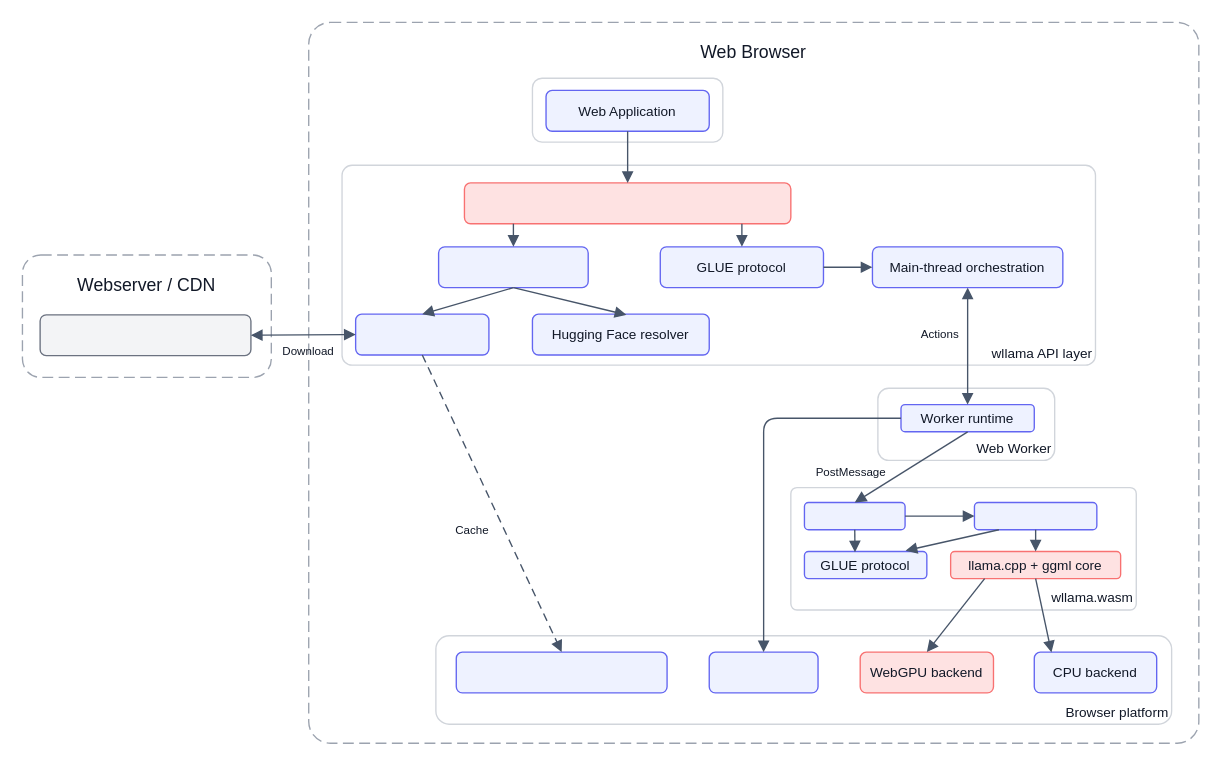
The diagram is 1221 pixels wide and 766 high, and some of its shapes have lost their labels. The centre of each missing label's shape, as x and y in pixels:
"Async runtime" belongs at point (763, 672).
"C ABI" belongs at point (854, 515).
"Cache manager" belongs at point (421, 334).
"HTTP(S) GGUF downloads" belongs at point (145, 334).
"Model manager" belongs at point (512, 266).
"OPFS / Cross-Origin Storage" belongs at point (561, 672).
"Request context" belongs at point (1035, 515).
"Wllama API" belongs at point (627, 203).
